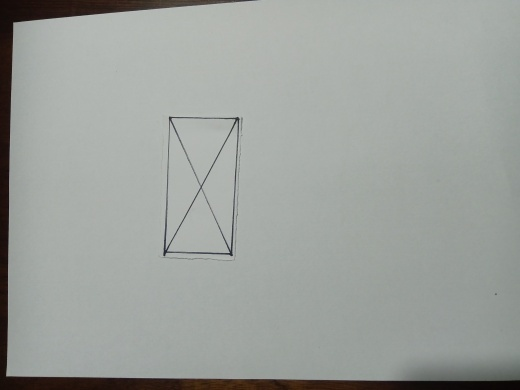img: (167, 114, 237, 258)
